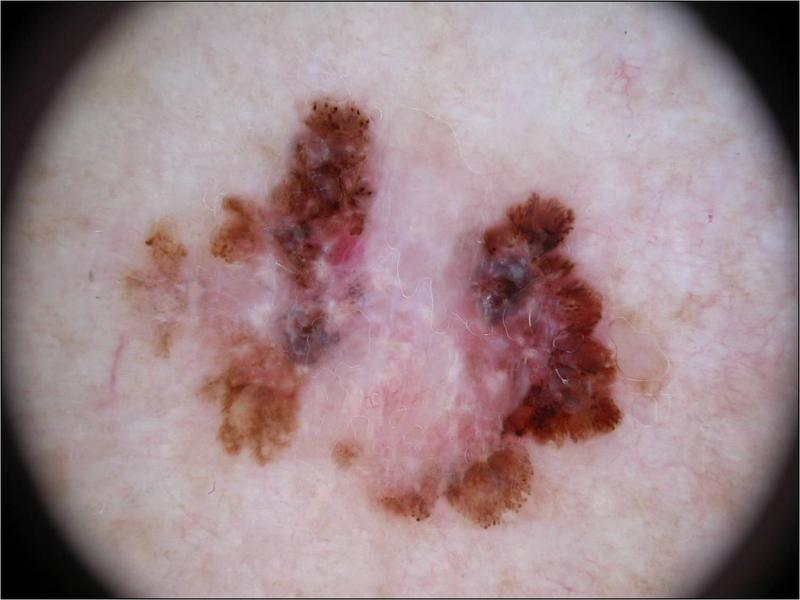Malignant: (451, 203, 612, 531), (185, 116, 340, 448)
